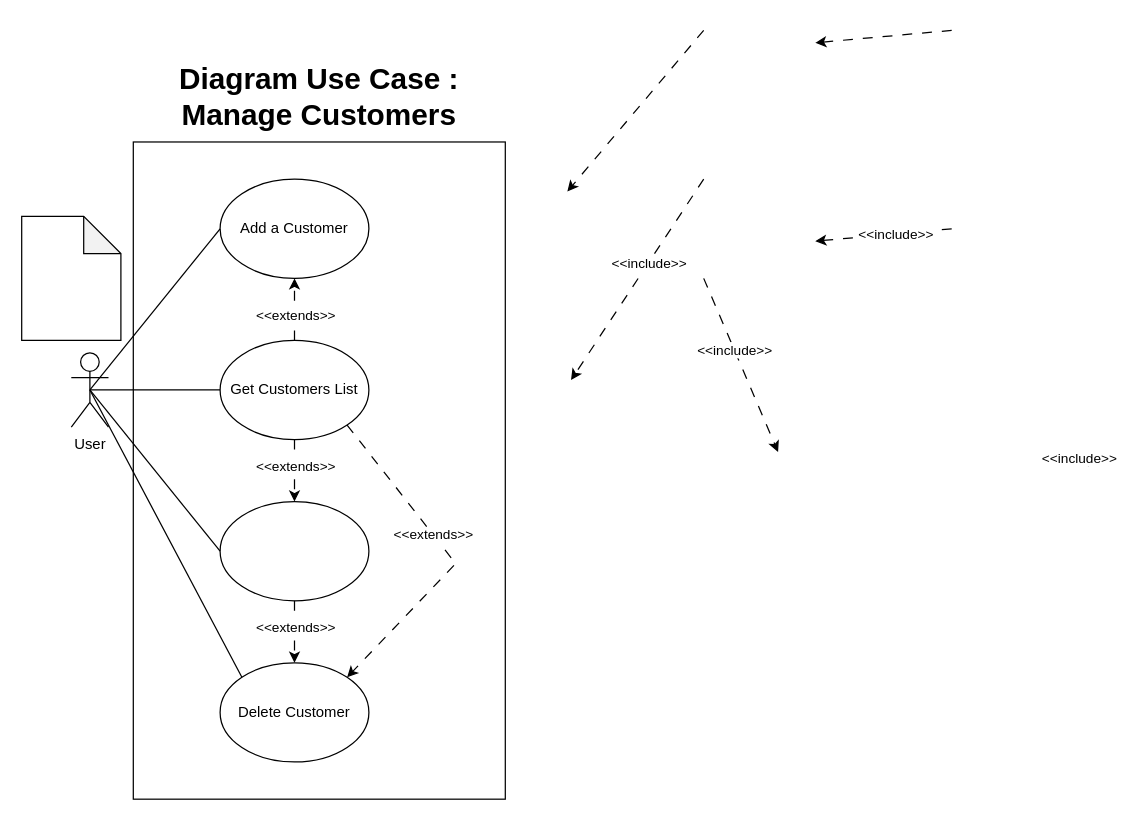
The diagram is 1138 pixels wide and 821 high, and some of its shapes have lost their labels. The centre of each missing label's shape, as x and y in pixels:
"Get Customer Details" goes at (294,550).
"User registered and have JWT" goes at (70,277).
